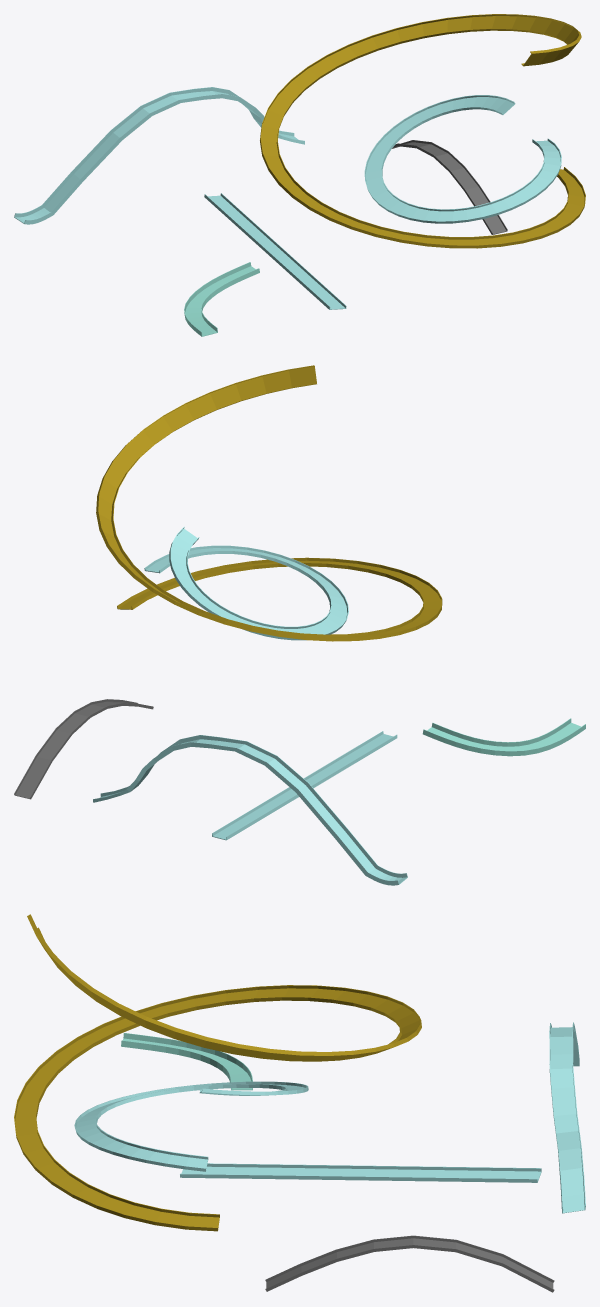
File: bridgefbx.fbx
3 renders of one model, top to bottom at view 1: azimuth 30°, elevation 25°; view 2: azimuth 150°, elevation 25°; view 3: azimuth 270°, elevation 25°, orthographic. The views are drawn at different scales.
Visible parts, largest first — view 1: Helix002, Helix001, Line003, Line001, Line004, Line002; view 2: Helix002, Helix001, Line003, Line001, Line002, Line004; view 3: Helix002, Line001, Line003, Helix001, Line004, Line002.
Boxes of the visible parts, bbox=[...] form: Helix002: bbox=[260, 14, 585, 248]; Helix001: bbox=[364, 95, 561, 223]; Line003: bbox=[14, 87, 304, 224]; Line001: bbox=[204, 193, 346, 309]; Line004: bbox=[392, 140, 507, 234]; Line002: bbox=[184, 262, 259, 336]; Helix002: bbox=[96, 365, 442, 641]; Helix001: bbox=[144, 526, 348, 640]; Line003: bbox=[93, 735, 407, 885]; Line001: bbox=[212, 731, 397, 840]; Line002: bbox=[422, 718, 585, 756]; Line004: bbox=[14, 699, 153, 799]; Helix002: bbox=[14, 914, 421, 1231]; Line001: bbox=[180, 1163, 541, 1182]; Line003: bbox=[549, 1022, 585, 1213]; Helix001: bbox=[74, 1081, 308, 1171]; Line004: bbox=[265, 1235, 554, 1292]; Line002: bbox=[121, 1033, 252, 1090].
Bounding box in the file's own units: 5242 × 3331 × 5081.
